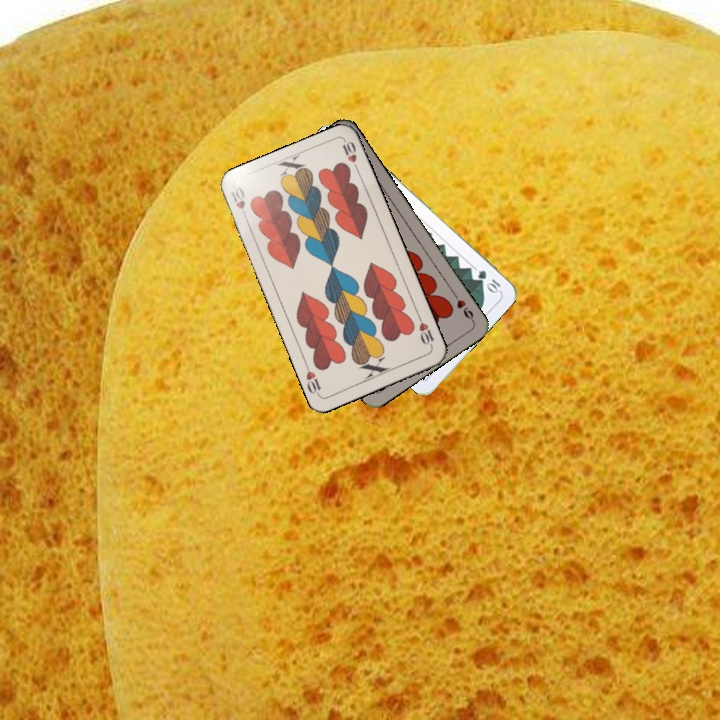G10: (474, 266, 503, 295)
H10: (227, 183, 250, 223), (414, 311, 436, 350)
H9: (449, 288, 477, 324)
